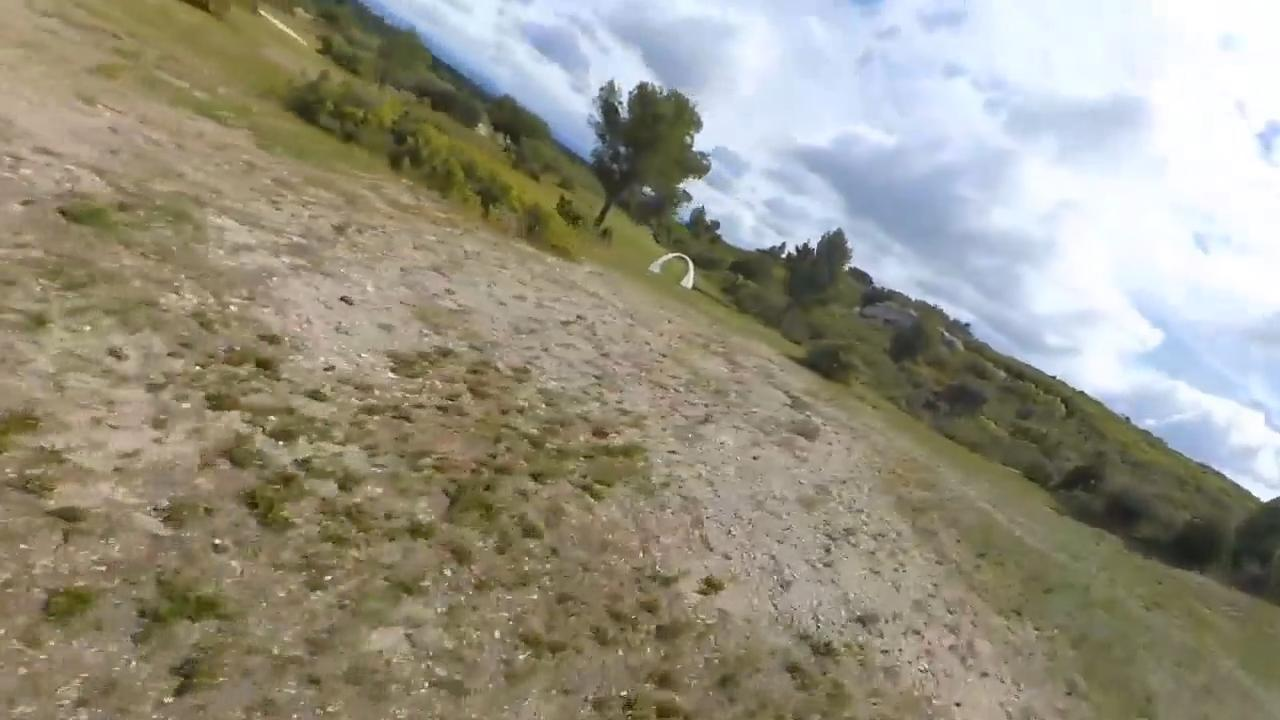gate: (650, 252, 694, 289)
